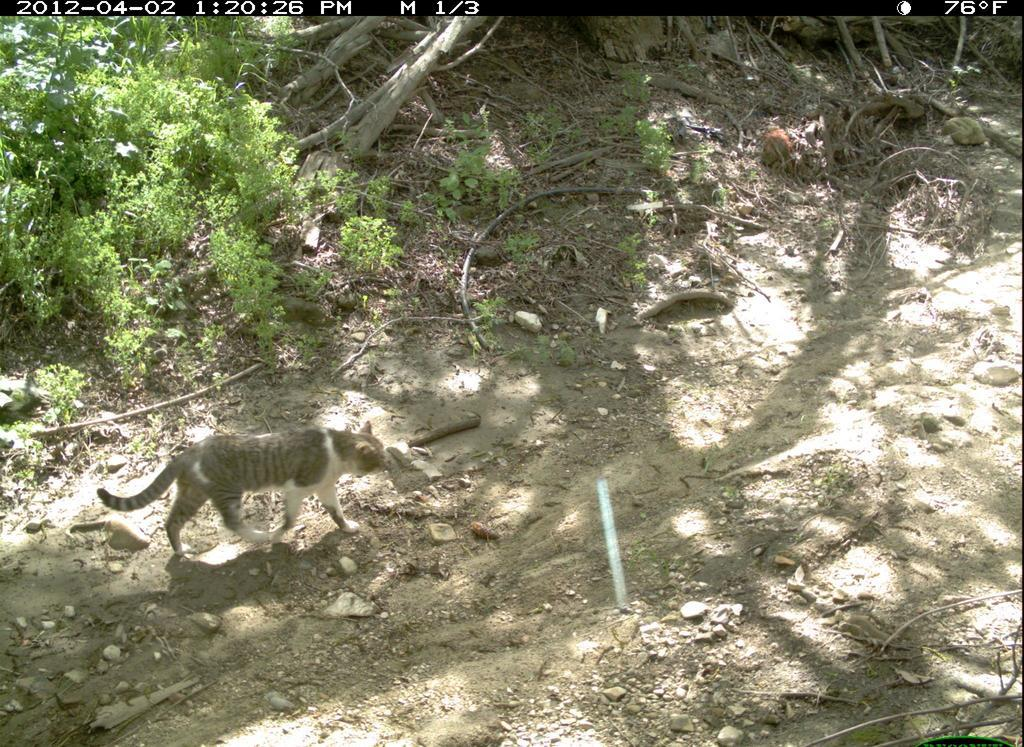cat: (68, 396, 447, 584)
